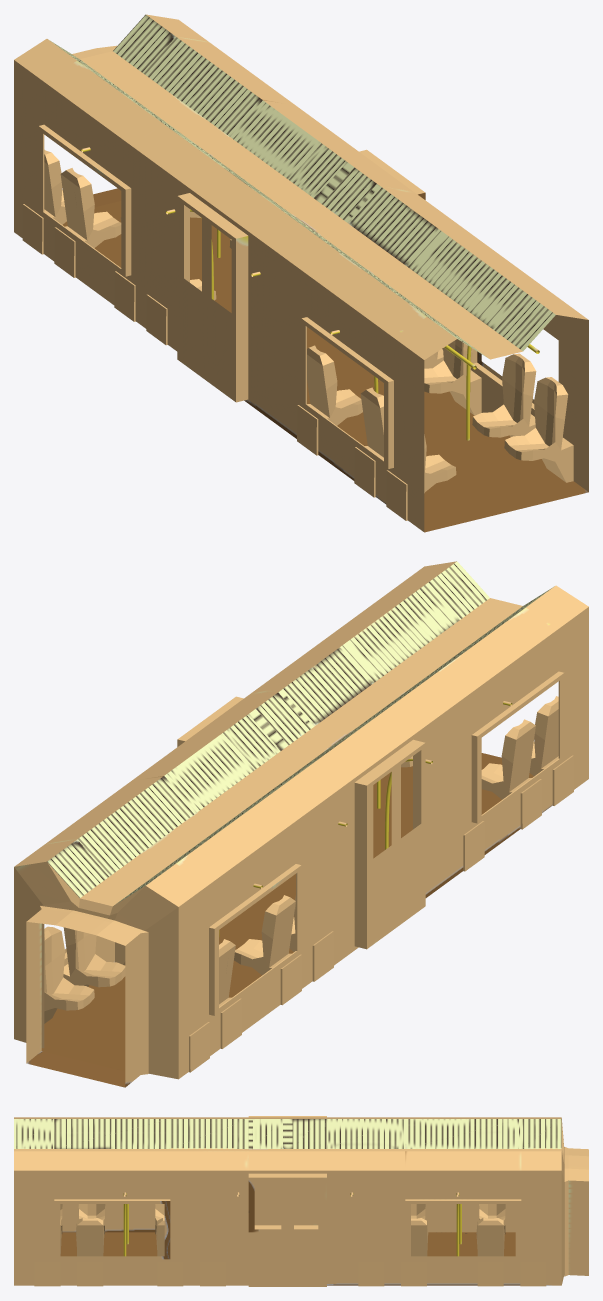
Rendered from subway.glb.
3 renders of one model, top to bottom at view 1: azimuth 30°, elevation 25°; view 2: azimuth 150°, elevation 25°; view 3: azimuth 270°, elevation 25°, orthographic. The views are drawn at different scales.
Parts seen in each view (by area): view 1: Cube; view 2: Cube; view 3: Cube.
Part boxes in pixels (x1=…): Cube: x1=14, y1=14, x2=588, y2=532; Cube: x1=14, y1=561, x2=588, y2=1087; Cube: x1=14, y1=1116, x2=588, y2=1286.
Size of the model in its own units: 2.3 by 2.17 by 9.06.
1 material, 1 textured.
